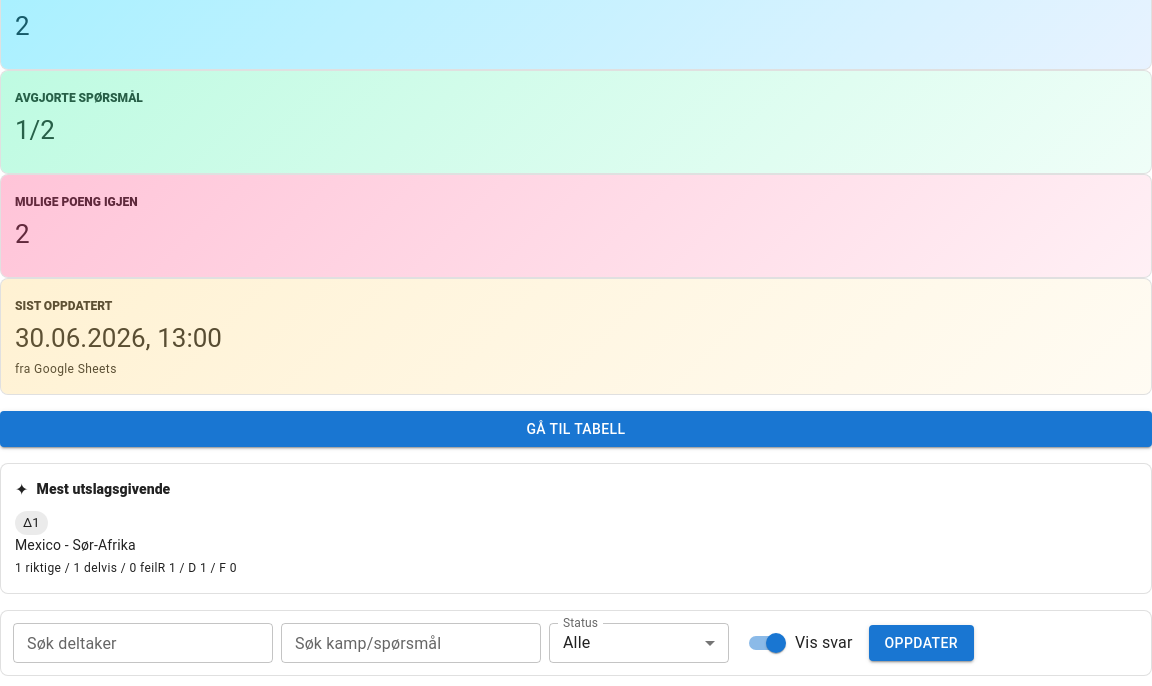
it: Users › toggles question cells between answers and points
Expected: the text "2/2" is not shown
Click the switch labelled "Vis svar". click: (801, 643)
box: [749,633,852,653]
(page scrolled)
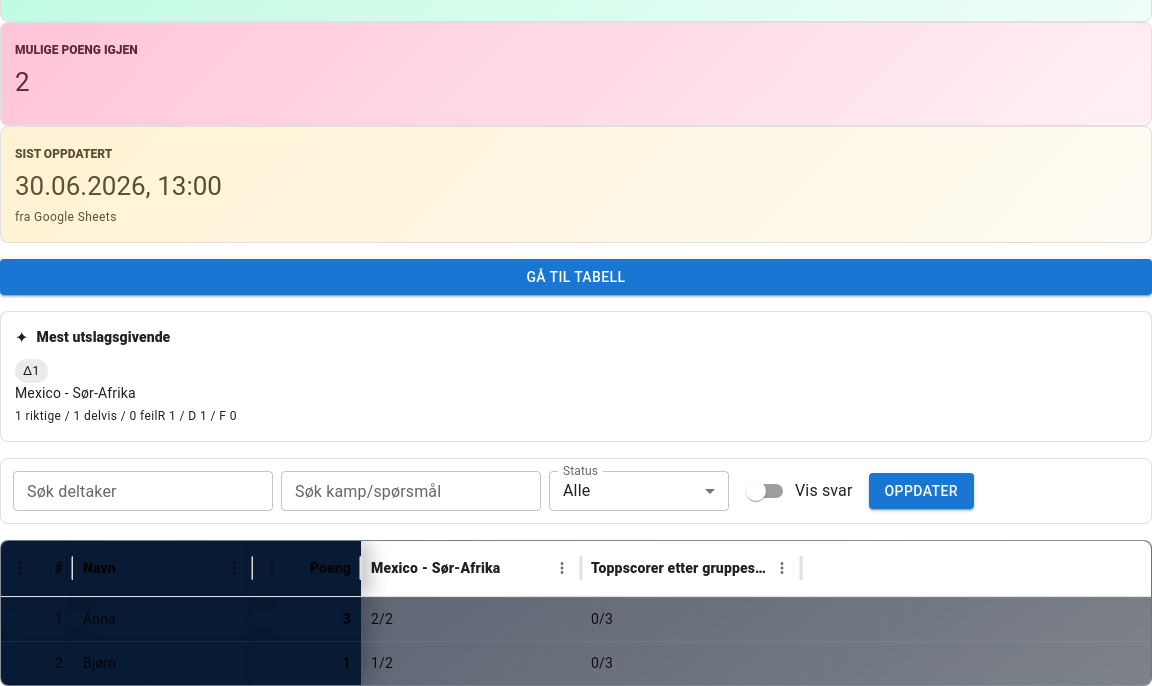
Result: the text "2/2" is shown at [371,611,393,627]
